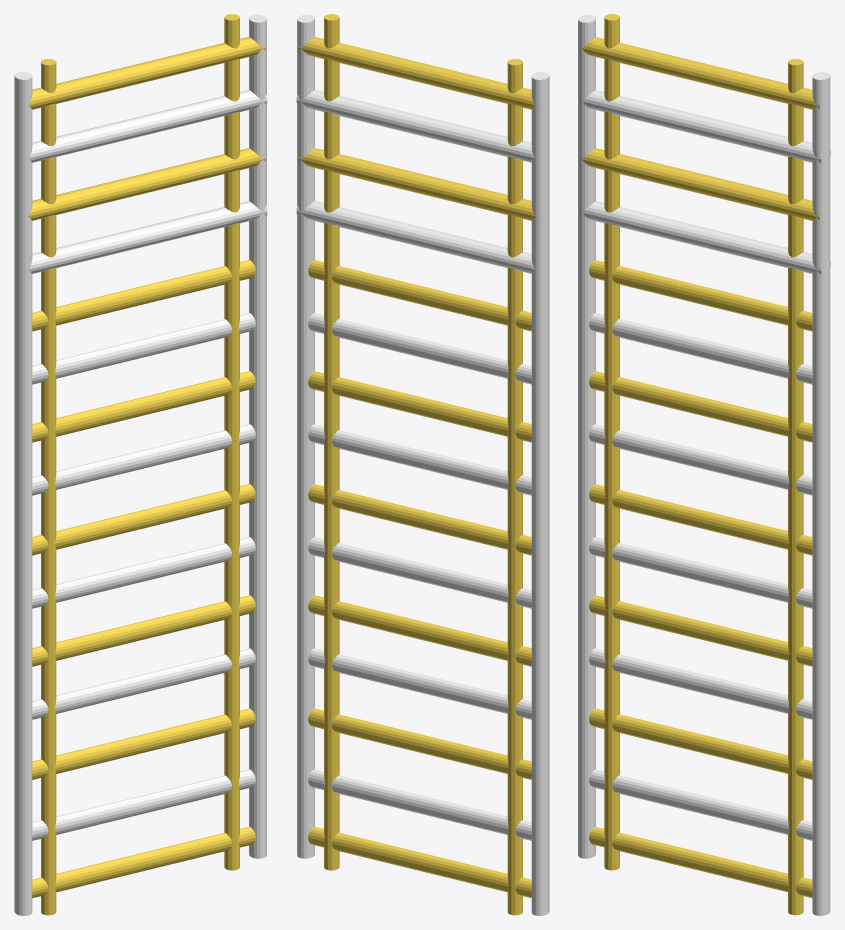
The model's file is tangga.glb.
3 renders of one model, left to right at view 1: azimuth 30°, elevation 25°; view 2: azimuth 150°, elevation 25°; view 3: azimuth 330°, elevation 25°, orthographic.
Parts seen in each view (by area): view 1: Cylinder 15, Cylinder 11, Cylinder 1, Cylinder; view 2: Cylinder 15, Cylinder 11, Cylinder 1, Cylinder; view 3: Cylinder 15, Cylinder 11, Cylinder 1, Cylinder.
Part boxes in pixels (left/top/right/bottom): Cylinder 15: left=14, top=14, right=267, bottom=915; Cylinder 11: left=27, top=37, right=265, bottom=897; Cylinder 1: left=41, top=59, right=56, bottom=915; Cylinder: left=224, top=14, right=239, bottom=870; Cylinder 15: left=296, top=14, right=549, bottom=915; Cylinder 11: left=298, top=37, right=536, bottom=897; Cylinder 1: left=507, top=59, right=522, bottom=915; Cylinder: left=324, top=14, right=339, bottom=870; Cylinder 15: left=578, top=14, right=830, bottom=915; Cylinder 11: left=581, top=37, right=819, bottom=897; Cylinder 1: left=604, top=14, right=619, bottom=870; Cylinder: left=788, top=59, right=803, bottom=915.
Size of the model in its own units: 0.3731 by 1.22 by 0.0254.
